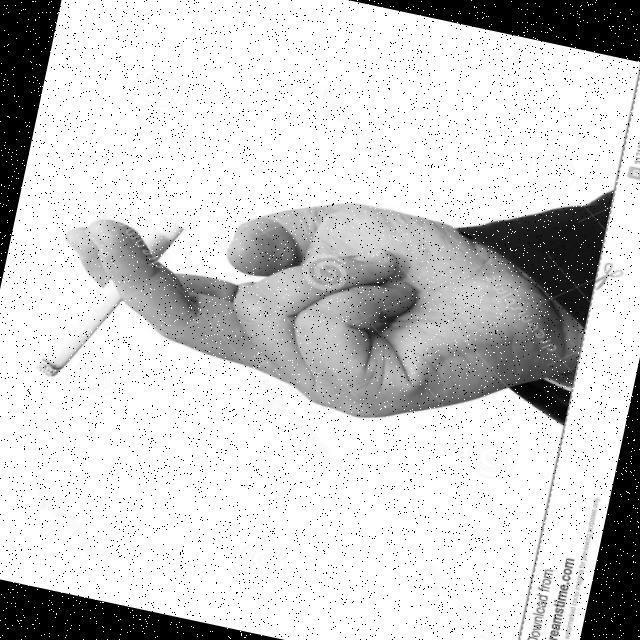cigarette: (28, 266, 134, 392)
